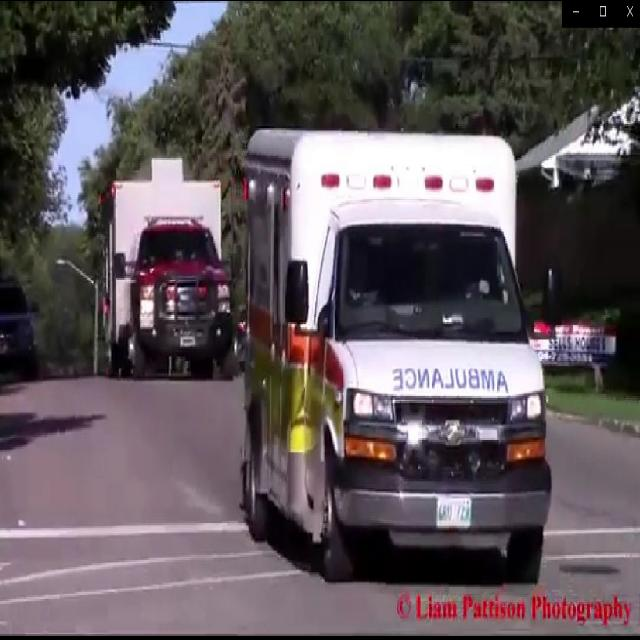emergency: (235, 126, 566, 588), (100, 149, 236, 387)
